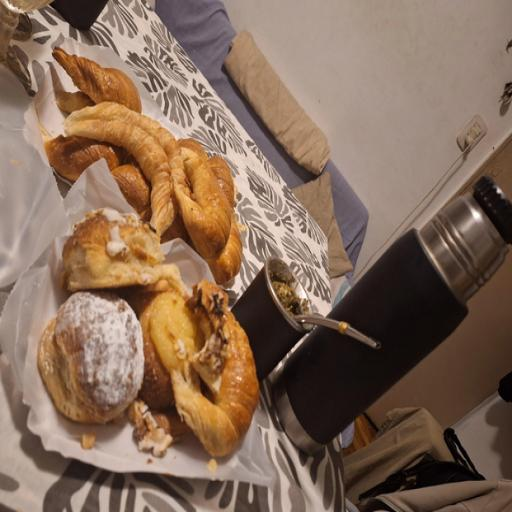bolleria: (151, 280, 258, 456), (66, 114, 173, 234), (57, 293, 143, 423), (62, 209, 186, 293), (175, 149, 231, 258)
mate: (231, 257, 380, 380)
termo: (274, 178, 511, 453)
